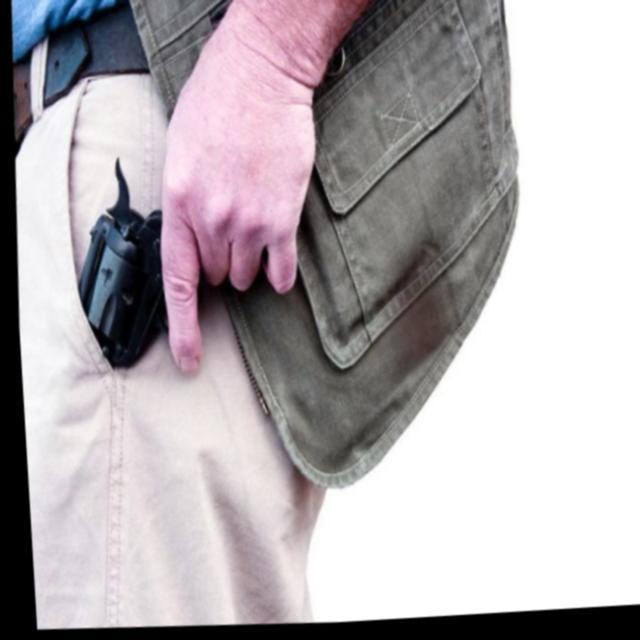weapon: (64, 153, 170, 372)
